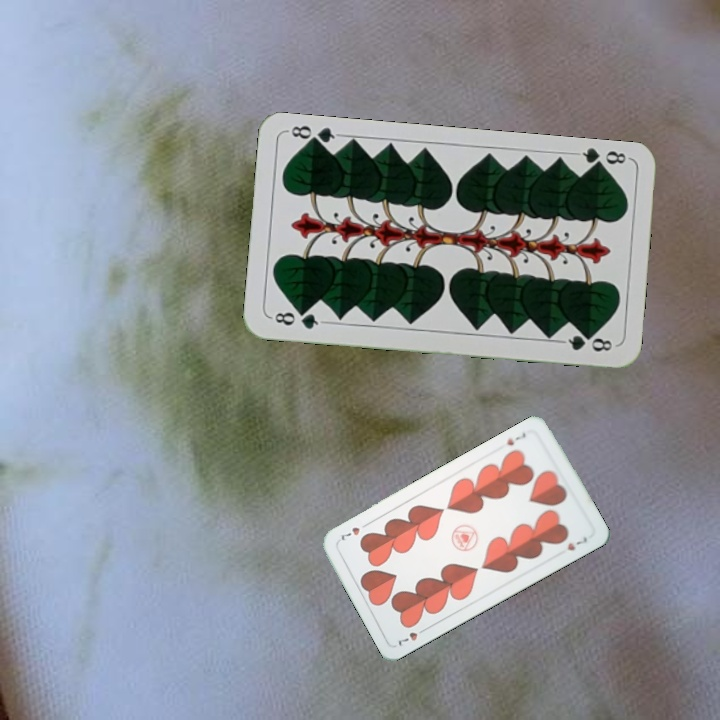G8: (572, 145, 631, 174), (267, 307, 326, 332)
H7: (394, 623, 430, 649), (503, 428, 528, 448)
